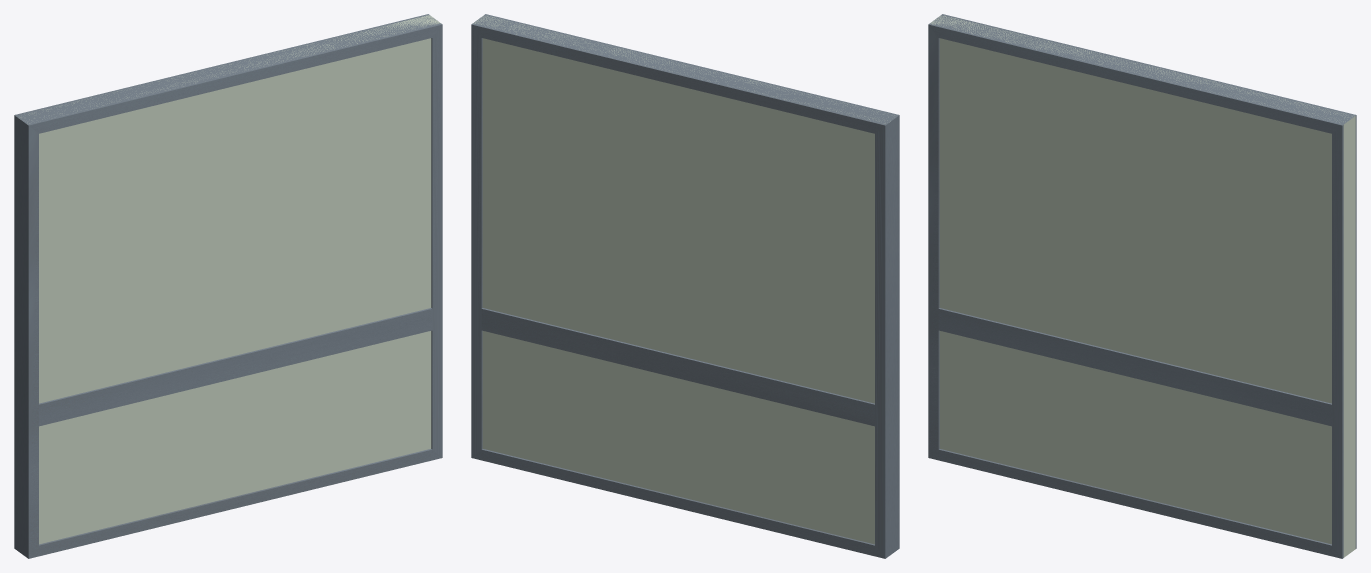
The model's file is ParedVentana.fbx.
3 views of the same model, side by side, from view 1: azimuth 30°, elevation 25°; view 2: azimuth 150°, elevation 25°; view 3: azimuth 330°, elevation 25° (orthographic).
Parts seen in each view (by area): view 1: ParedVentanaMit; view 2: ParedVentanaMit; view 3: ParedVentanaMit.
Boxes of the visible parts, box(x1,y1,x2,y2) form: ParedVentanaMit: box(14, 14, 442, 558); ParedVentanaMit: box(471, 14, 899, 558); ParedVentanaMit: box(928, 14, 1356, 558).
Bounding box in the file's own units: 200 × 200 × 12.
